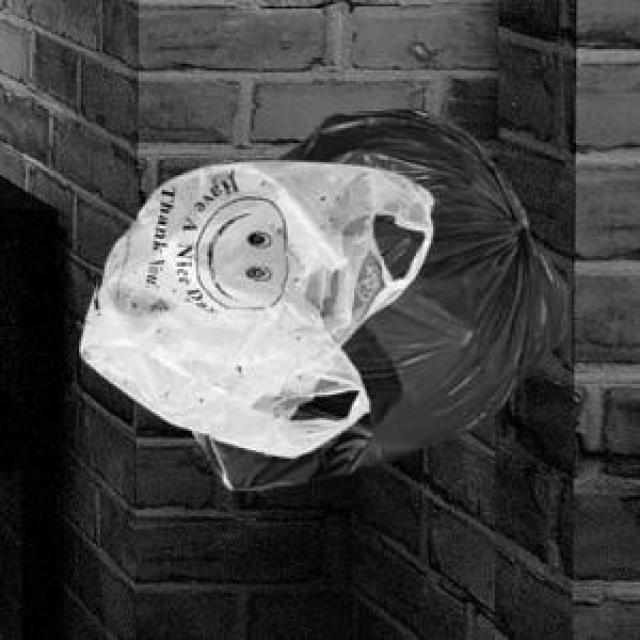miscellaneous trash: (190, 105, 565, 486)
